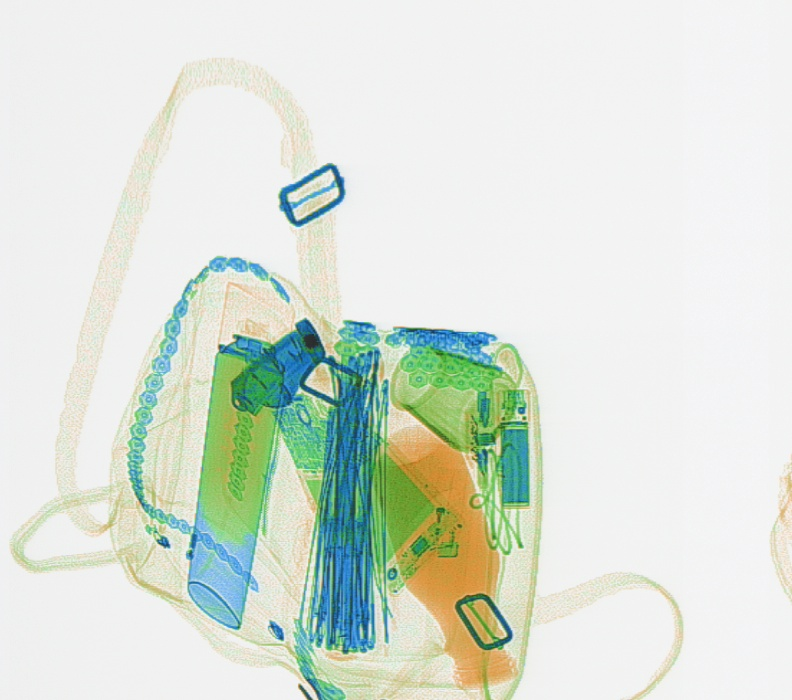knife: (229, 317, 326, 412)
lighter: (427, 443, 469, 557)
pressure: (186, 332, 285, 631)
